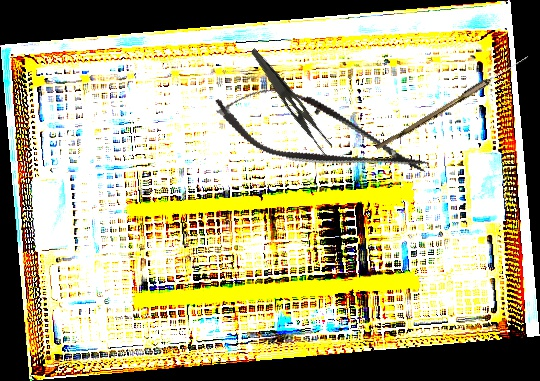Dressing Forceps: (239, 47, 341, 160)
Micro Scissor: (204, 68, 439, 201)
Surgical Spoon: (375, 52, 530, 154)
